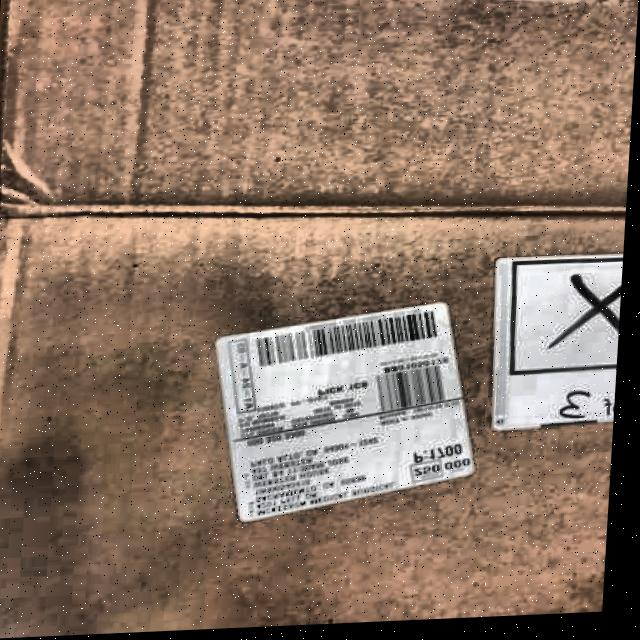cardboard: (0, 0, 638, 244), (202, 299, 484, 523)
